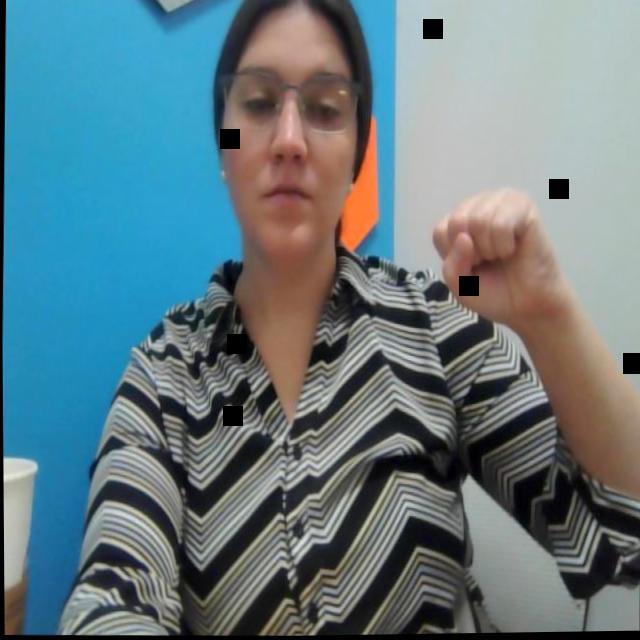Rock: (424, 182, 558, 318)
